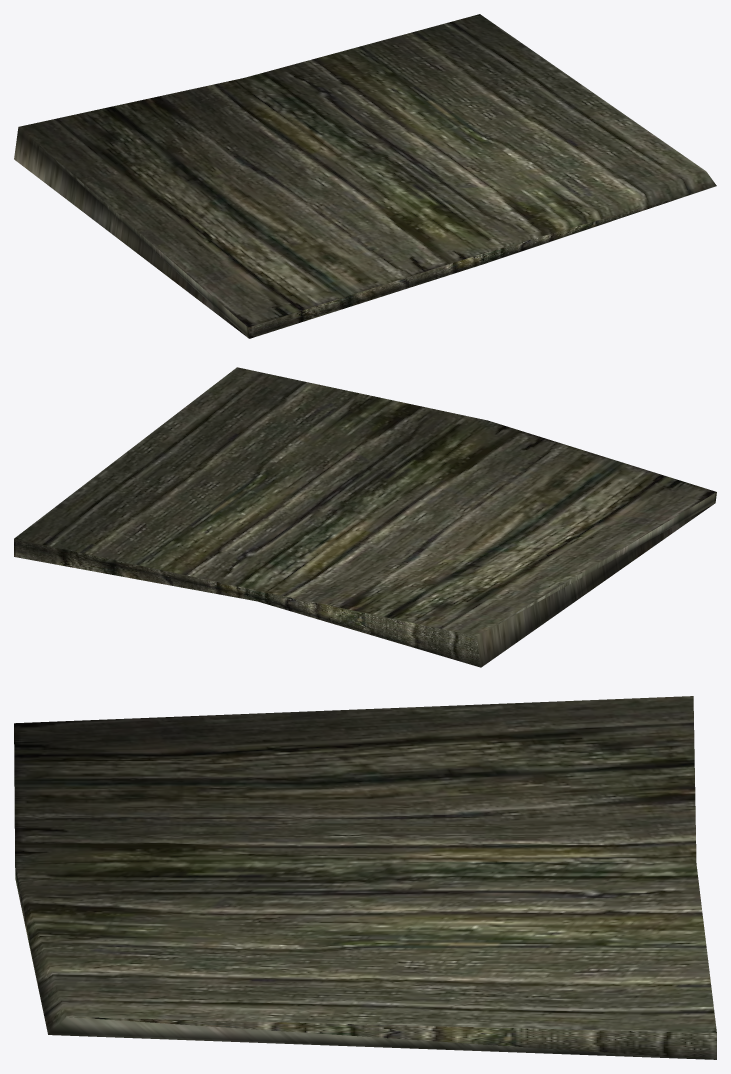
File: MIN_LOB_PLANKS_2X5M.glb
3 views of the same model, one above another, from view 1: azimuth 30°, elevation 25°; view 2: azimuth 150°, elevation 25°; view 3: azimuth 270°, elevation 25° (orthographic). The views are drawn at different scales.
Visible parts, largest first — view 1: Mesh; view 2: Mesh; view 3: Mesh.
Boxes of the visible parts, box(x1,y1,x2,y2) form: Mesh: box(14, 14, 716, 338); Mesh: box(14, 367, 716, 667); Mesh: box(14, 696, 716, 1059).
Size of the model in its own units: 5.4 by 0.4073 by 4.81.
1 material, 1 textured.
